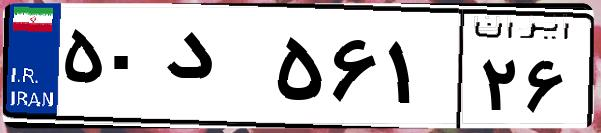0: (110, 28, 158, 98)
1: (385, 28, 445, 110)
2: (475, 38, 525, 113)
5: (270, 28, 330, 110), (57, 26, 110, 100)
6: (330, 28, 385, 110), (525, 38, 570, 115)
د: (158, 20, 270, 120)
